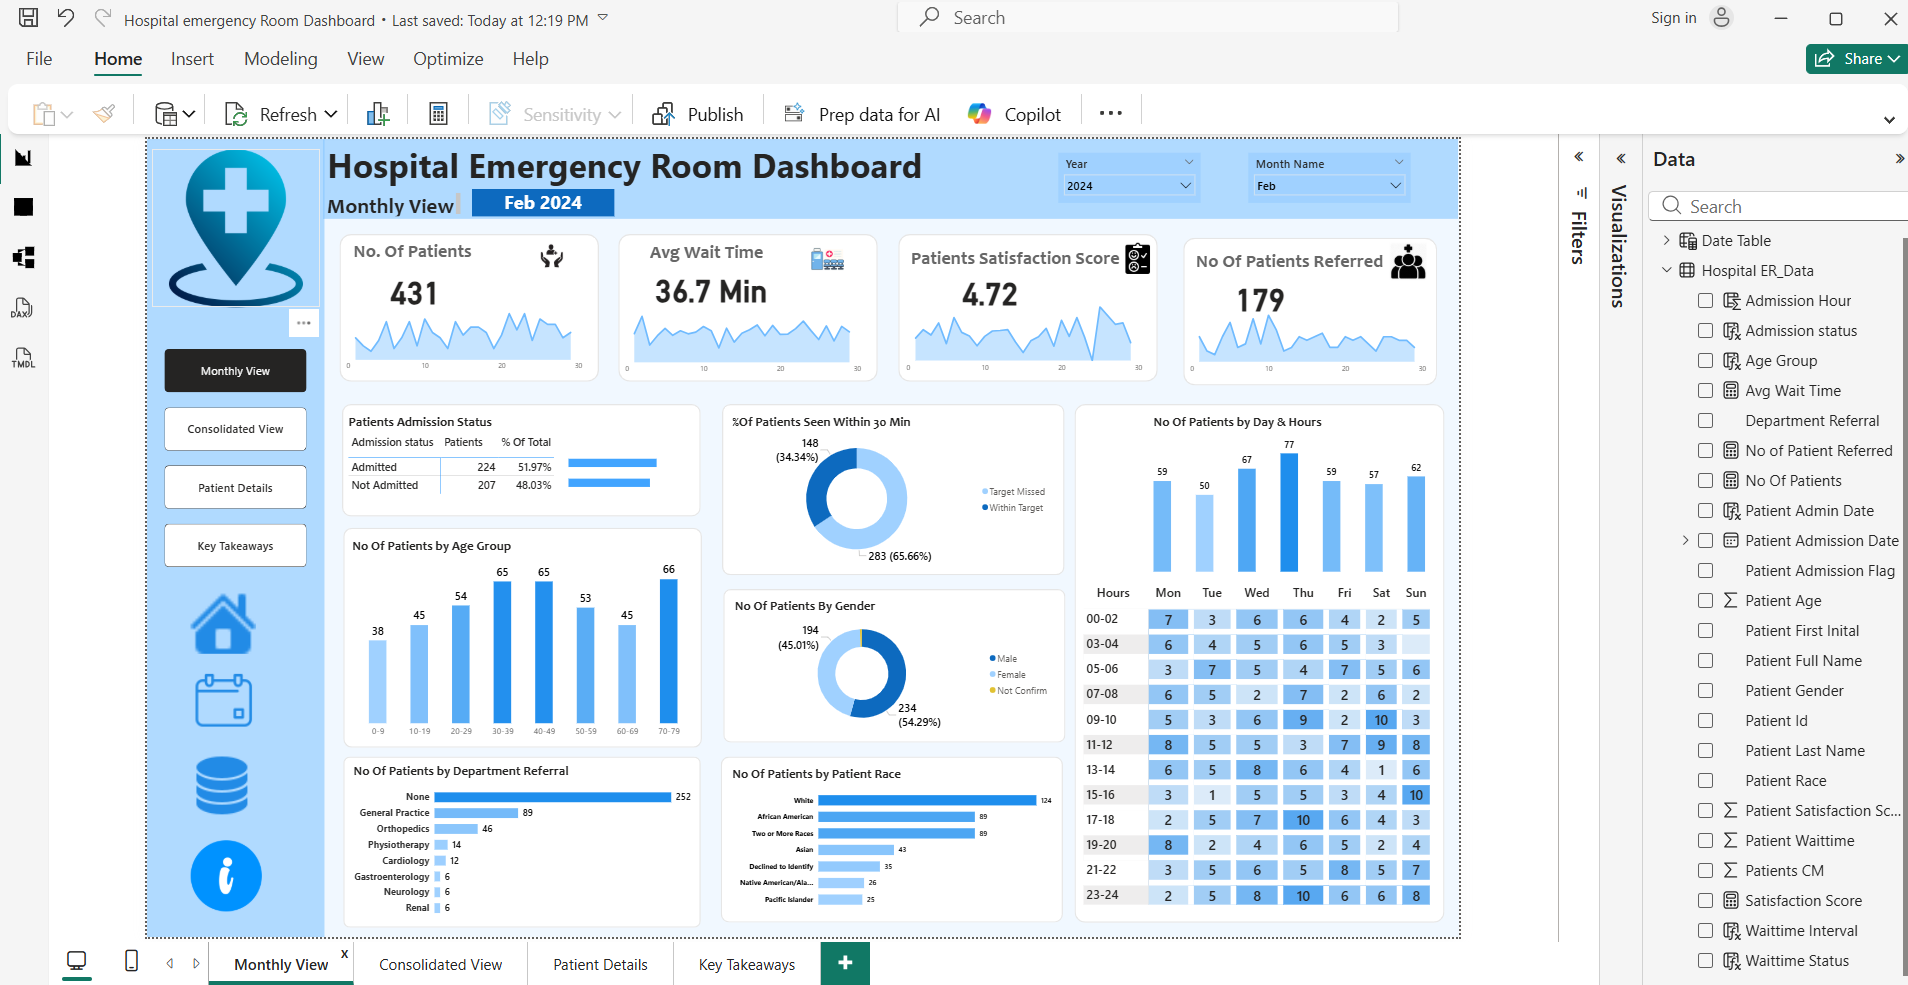

What the dashboard file says about the page in this screenshot:
{"tool":"powerbi","page":{"name":"Monthly View ","canvas":[2300,1400],"ordinal":0},"visuals":[{"type":"shape","box":[0,0,311.2,1400.2],"z":0},{"type":"shape","box":[309,0,1990,140.3],"z":1000},{"type":"textbox","box":[311.2,0,1084.9,89.9],"z":2000},{"type":"textbox","box":[311.2,89.9,243.3,50.4],"z":3000},{"type":"shape","box":[337.5,166.6,455,259],"z":4000},{"type":"card","fields":{"Values":["Hospital ER_Data.No Of Patients"]},"box":[355,221.4,230.1,83.3],"z":5000},{"type":"slicer","fields":{"Values":["Date Table.Year"]},"box":[1597.7,24.1,249.8,87.7],"z":6000},{"type":"slicer","fields":{"Values":["Date Table.Month Name"]},"box":[1930.8,24.1,284.9,87.7],"z":7000},{"type":"textbox","box":[357.2,170.9,227.9,50.4],"z":8000},{"type":"areaChart","fields":{"Category":["Date Table.Date.Variation.Date Hierarchy.Day"],"Y":["Hospital ER_Data.No Of Patients"]},"box":[337.5,278.3,433.9,138.1],"z":9000},{"type":"card","fields":{"Values":["Min(Date Table.Month & Year)"]},"box":[569.8,87.7,249.8,48.2],"z":10000},{"type":"shape","box":[825.9,165.6,455,259],"z":11000},{"type":"card","fields":{"Values":["Hospital ER_Data.Avg Wait Time"]},"box":[874.5,219.2,230.1,83.3],"z":12000},{"type":"textbox","box":[876.6,173.1,227.9,50.4],"z":13000},{"type":"areaChart","fields":{"Category":["Date Table.Date.Variation.Date Hierarchy.Day"],"Y":["Avg(Hospital ER_Data.Patient Waittime)"]},"box":[826.2,282.7,433.9,138.1],"z":14000},{"type":"shape","box":[1317.8,166.6,455,259],"z":15000},{"type":"card","fields":{"Values":["Hospital ER_Data.Satisfaction Score"]},"box":[1363.2,223.5,230.1,83.3],"z":16000},{"type":"textbox","box":[1334.7,184.1,387.9,50.4],"z":17000},{"type":"areaChart","fields":{"Category":["Date Table.Date.Variation.Date Hierarchy.Day"],"Y":["Hospital ER_Data.Satisfaction Score"]},"box":[1318.5,280.5,433.9,138.1],"z":18000},{"type":"shape","box":[1816.8,172.6,445,259],"z":19000},{"type":"card","fields":{"Values":["Hospital ER_Data.No of Patient Referred"]},"box":[1836.6,234.5,230.1,83.3],"z":20000},{"type":"shape","box":[341.9,464.6,629,197.2],"z":21000},{"type":"areaChart","fields":{"Category":["Date Table.Date.Variation.Date Hierarchy.Day"],"Y":["Hospital ER_Data.No of Patient Referred"]},"box":[1816.9,282.7,433.9,138.1],"z":22000},{"type":"textbox","box":[1835.3,188.5,341.9,50.4],"z":23000},{"type":"pivotTable","title":"Patients Admission Status","fields":{"Rows":["Hospital ER_Data.Admission status"],"Values":["Hospital ER_Data.No Of Patients1","Hospital ER_Data.No Of Patients"]},"box":[348.5,482.2,615.8,162.2],"z":24000},{"type":"barChart","fields":{"Y":["Hospital ER_Data.No Of Patients"],"Category":["Hospital ER_Data.Admission status"]},"box":[734.2,530.8,217,105.2],"z":25000},{"type":"shape","box":[344.1,681.6,629,385.7],"z":26000},{"type":"clusteredColumnChart","fields":{"Category":["Hospital ER_Data.Age Group"],"Y":["Hospital ER_Data.No Of Patients"]},"box":[355,699.1,611.5,359.4],"z":27000},{"type":"shape","box":[344.1,1082.7,626.8,300.3],"z":28000},{"type":"clusteredBarChart","fields":{"Category":["Hospital ER_Data.Department Referral"],"Y":["Hospital ER_Data.No Of Patients"]},"box":[357.2,1093.6,604.9,280.5],"z":29000},{"type":"shape","box":[1008.1,464.6,600.5,300.3],"z":30000},{"type":"donutChart","title":"%Of Patients Seen Within 30 Min","fields":{"Category":["Hospital ER_Data.Waittime Status"],"Y":["Hospital ER_Data.No Of Patients"]},"box":[1021.3,482.2,567.6,269.6],"z":31000},{"type":"shape","box":[1010.6,789.8,600,269.2],"z":32000},{"type":"donutChart","title":"No Of Patients By Gender","fields":{"Y":["Hospital ER_Data.No Of Patients"],"Category":["Hospital ER_Data.Patient Gender"]},"box":[1026.7,804.4,566.7,237.8],"z":33000},{"type":"shape","box":[1006.7,1082.2,600,291.1],"z":34000},{"type":"clusteredBarChart","fields":{"Y":["Hospital ER_Data.No Of Patients"],"Category":["Hospital ER_Data.Patient Race"]},"box":[1022.2,1097.8,571.1,262.2],"z":35000},{"type":"shape","box":[1626.2,464.6,648.7,909.5],"z":36000},{"type":"pivotTable","fields":{"Rows":["Hospital ER_Data.Waittime Interval"],"Columns":["Date Table.Day Name"],"Values":["Hospital ER_Data.No Of Patients"]},"box":[1637.1,773.6,626.8,585.2],"z":37000},{"type":"columnChart","title":"No Of Patients by Day & Hours","fields":{"Category":["Date Table.Day Name"],"Y":["Hospital ER_Data.No Of Patients"]},"box":[1759.9,482.2,488.7,282.7],"z":38000},{"type":"image","box":[8.8,17.5,293.7,278.3],"z":39000},{"type":"image","box":[661.9,175.3,96.4,59.2],"z":40000},{"type":"image","box":[1150.6,181.9,85.5,57],"z":41000},{"type":"image","box":[1700.7,181.9,72.3,57],"z":42000},{"type":"image","box":[2176.3,181.9,70.1,65.7],"z":43000},{"type":"pageNavigator","box":[30.7,368.2,249.8,383.5],"z":44000},{"type":"image","box":[72.3,789,122.7,114],"z":45000},{"type":"image","box":[62.2,924.1,146.2,118.2],"z":46000},{"type":"image","box":[62.2,1082.8,140,105.8],"z":47000},{"type":"image","box":[62.2,1229.1,155.6,124.5],"z":48000}]}

Visuals, with their boxes on the page's 2300x1400 design canvas (x1, y1, x2, y2). These are canvas units, not pixel positions in the 1908x985 screenshot, which may show the page scaled, cropped or inside an application window:
shape: box(0, 0, 311, 1400)
shape: box(309, 0, 2299, 140)
textbox: box(311, 0, 1396, 90)
textbox: box(311, 90, 554, 140)
shape: box(338, 167, 792, 426)
card - Hospital ER_Data.No Of Patients: box(355, 221, 585, 305)
slicer - Date Table.Year: box(1598, 24, 1848, 112)
slicer - Date Table.Month Name: box(1931, 24, 2216, 112)
textbox: box(357, 171, 585, 221)
areaChart - Date Table.Date.Variation.Date Hierarchy.Day x Hospital ER_Data.No Of Patients: box(338, 278, 771, 416)
card - Min(Date Table.Month & Year): box(570, 88, 820, 136)
shape: box(826, 166, 1281, 425)
card - Hospital ER_Data.Avg Wait Time: box(874, 219, 1105, 302)
textbox: box(877, 173, 1104, 224)
areaChart - Date Table.Date.Variation.Date Hierarchy.Day x Avg(Hospital ER_Data.Patient Waittime): box(826, 283, 1260, 421)
shape: box(1318, 167, 1773, 426)
card - Hospital ER_Data.Satisfaction Score: box(1363, 224, 1593, 307)
textbox: box(1335, 184, 1723, 234)
areaChart - Date Table.Date.Variation.Date Hierarchy.Day x Hospital ER_Data.Satisfaction Score: box(1318, 280, 1752, 419)
shape: box(1817, 173, 2262, 432)
card - Hospital ER_Data.No of Patient Referred: box(1837, 234, 2067, 318)
shape: box(342, 465, 971, 662)
areaChart - Date Table.Date.Variation.Date Hierarchy.Day x Hospital ER_Data.No of Patient Referred: box(1817, 283, 2251, 421)
textbox: box(1835, 188, 2177, 239)
"Patients Admission Status" pivotTable: box(348, 482, 964, 644)
barChart - Hospital ER_Data.No Of Patients x Hospital ER_Data.Admission status: box(734, 531, 951, 636)
shape: box(344, 682, 973, 1067)
clusteredColumnChart - Hospital ER_Data.Age Group x Hospital ER_Data.No Of Patients: box(355, 699, 966, 1058)
shape: box(344, 1083, 971, 1383)
clusteredBarChart - Hospital ER_Data.Department Referral x Hospital ER_Data.No Of Patients: box(357, 1094, 962, 1374)
shape: box(1008, 465, 1609, 765)
"%Of Patients Seen Within 30 Min" donutChart: box(1021, 482, 1589, 752)
shape: box(1011, 790, 1611, 1059)
"No Of Patients By Gender" donutChart: box(1027, 804, 1593, 1042)
shape: box(1007, 1082, 1607, 1373)
clusteredBarChart - Hospital ER_Data.No Of Patients x Hospital ER_Data.Patient Race: box(1022, 1098, 1593, 1360)
shape: box(1626, 465, 2275, 1374)
pivotTable - Hospital ER_Data.Waittime Interval x Date Table.Day Name: box(1637, 774, 2264, 1359)
"No Of Patients by Day & Hours" columnChart: box(1760, 482, 2249, 765)
image: box(9, 18, 302, 296)
image: box(662, 175, 758, 234)
image: box(1151, 182, 1236, 239)
image: box(1701, 182, 1773, 239)
image: box(2176, 182, 2246, 248)
pageNavigator: box(31, 368, 280, 752)
image: box(72, 789, 195, 903)
image: box(62, 924, 208, 1042)
image: box(62, 1083, 202, 1189)
image: box(62, 1229, 218, 1354)
